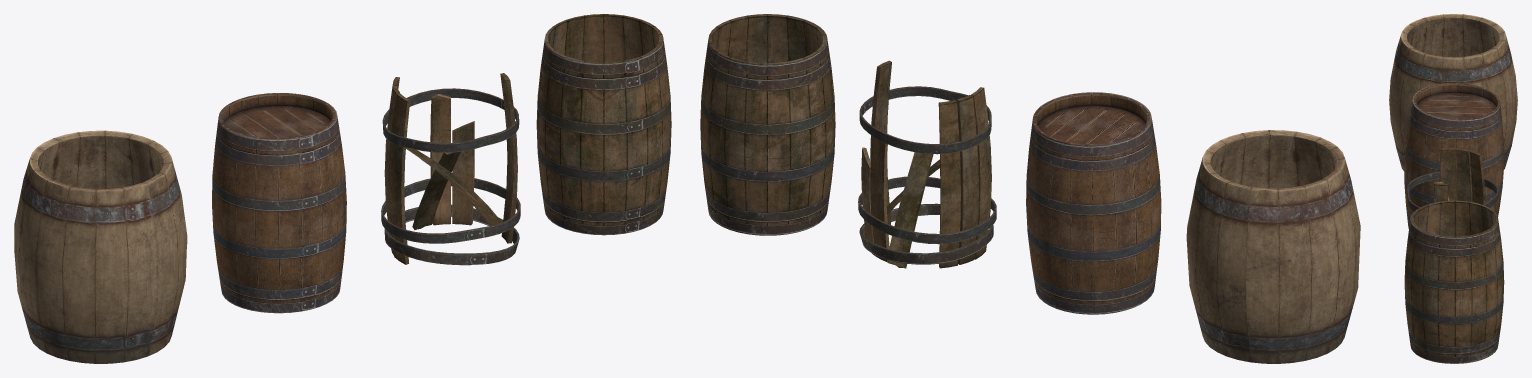
File: wooden_barrels.glb
3 renders of one model, left to right at view 1: azimuth 30°, elevation 25°; view 2: azimuth 150°, elevation 25°; view 3: azimuth 270°, elevation 25°, orthographic. The views are drawn at different scales.
Visible parts, largest first — view 1: barrel_big_Barrels_0, mesh0_Barrels_0, barrel_small_open_Barrels_0, barrel_small_broken_Barrels_0; view 2: barrel_big_Barrels_0, mesh0_Barrels_0, barrel_small_open_Barrels_0, barrel_small_broken_Barrels_0; view 3: mesh0_Barrels_0, barrel_big_Barrels_0, barrel_small_open_Barrels_0, barrel_small_broken_Barrels_0.
Boxes of the visible parts, x1,y1,x2,y2 form: barrel_big_Barrels_0: (14,130,187,363); mesh0_Barrels_0: (536,14,671,235); barrel_small_open_Barrels_0: (212,93,346,313); barrel_small_broken_Barrels_0: (381,73,520,265); barrel_big_Barrels_0: (1186,130,1360,363); mesh0_Barrels_0: (700,14,835,235); barrel_small_open_Barrels_0: (1026,92,1161,314); barrel_small_broken_Barrels_0: (858,60,996,268); mesh0_Barrels_0: (1404,200,1504,363); barrel_big_Barrels_0: (1389,14,1517,171); barrel_small_open_Barrels_0: (1404,83,1503,228); barrel_small_broken_Barrels_0: (1407,148,1498,213).
Size of the model in its own units: 1.37 by 0.3589 by 0.3255.
Materials: 1 (1 with a texture image).
